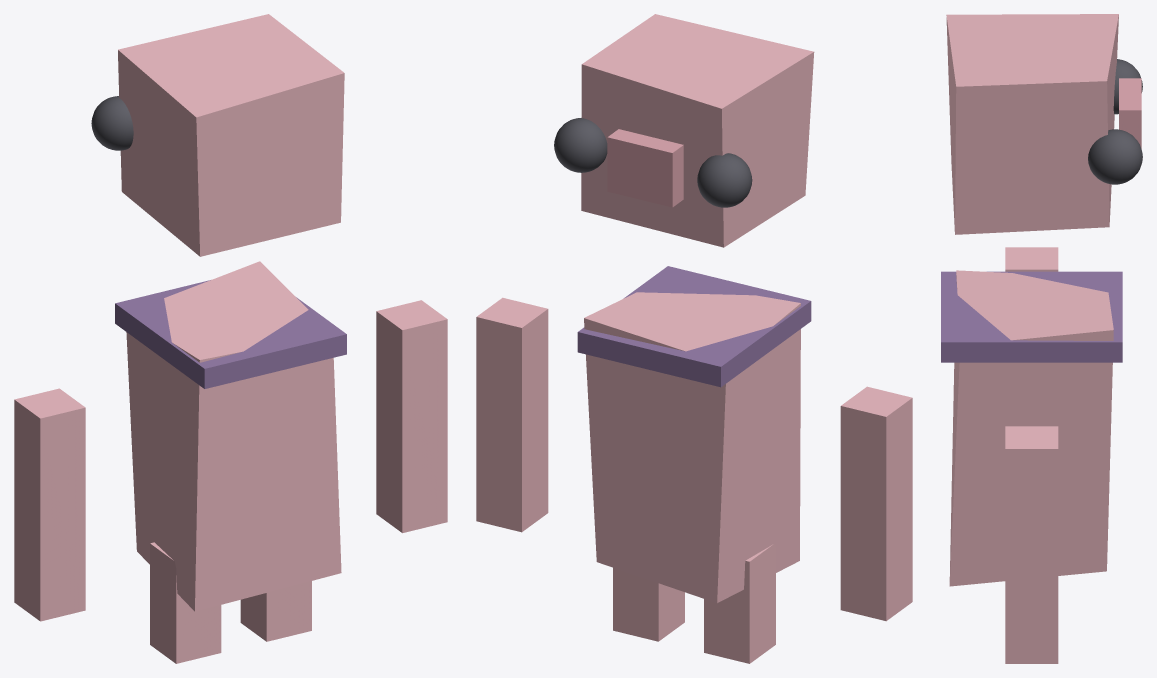
File: clay_blocky_pig_saddle.glb
The picture shows the model from 3 angles, left to right: view 1: azimuth 30°, elevation 25°; view 2: azimuth 150°, elevation 25°; view 3: azimuth 270°, elevation 25°; orthographic projection.
Visible parts, largest first — view 1: saddle; view 2: saddle; view 3: saddle.
Part boxes in pixels (x1=…): saddle: x1=14, y1=14, x2=447, y2=663; saddle: x1=476, y1=14, x2=912, y2=663; saddle: x1=941, y1=14, x2=1142, y2=663.
Bounding box in the file's own units: 1.89 × 2.57 × 0.8001.
